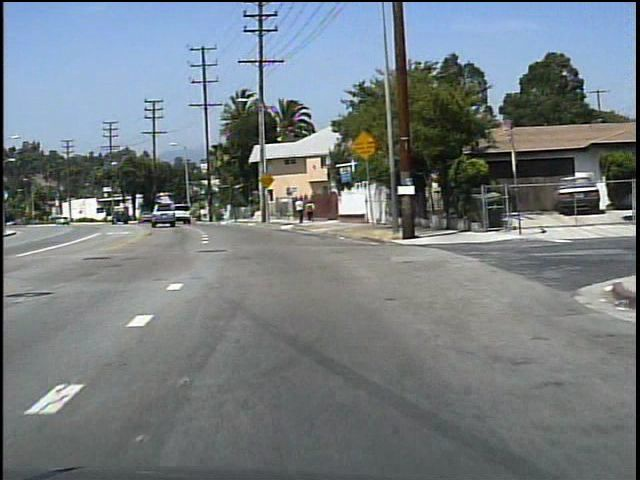person: (293, 196, 306, 225), (305, 198, 316, 224)
